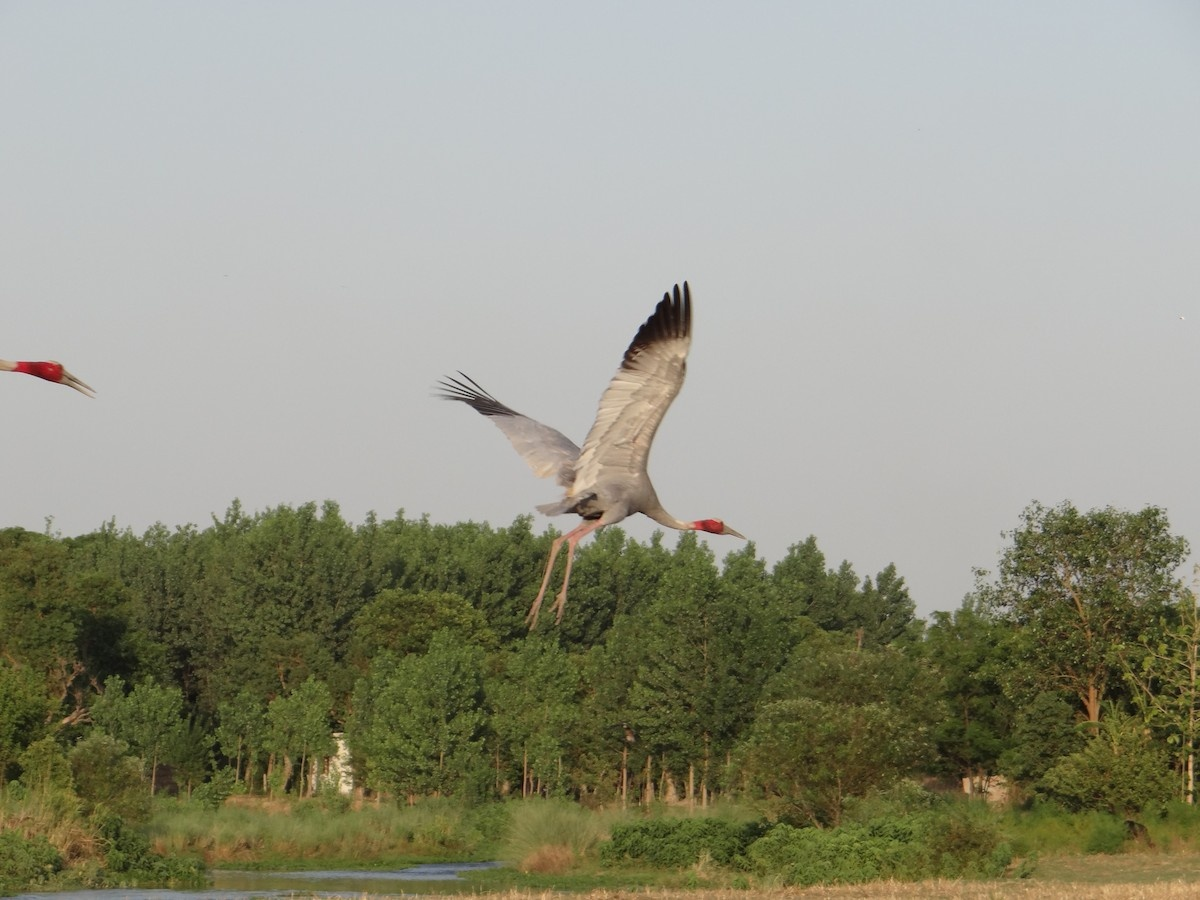crane: (436, 314, 768, 643), (1, 357, 107, 411)
